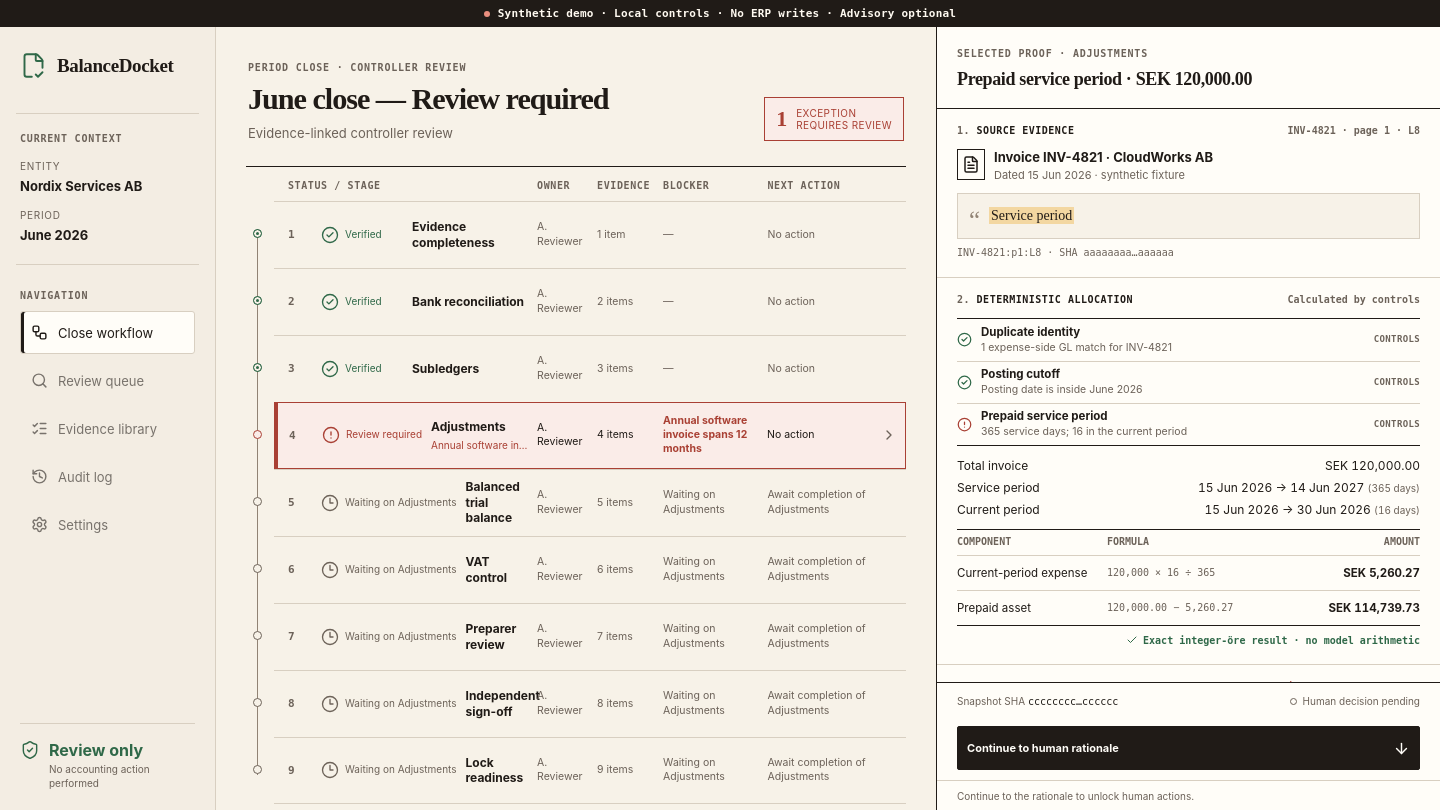
BalanceDocket reviewer › presents the recorded request_evidence outcome consistently
Click the button "Continue to human rationale" at {"x": 1043, "y": 748}, box [957,726,1420,770]
(page scrolled)
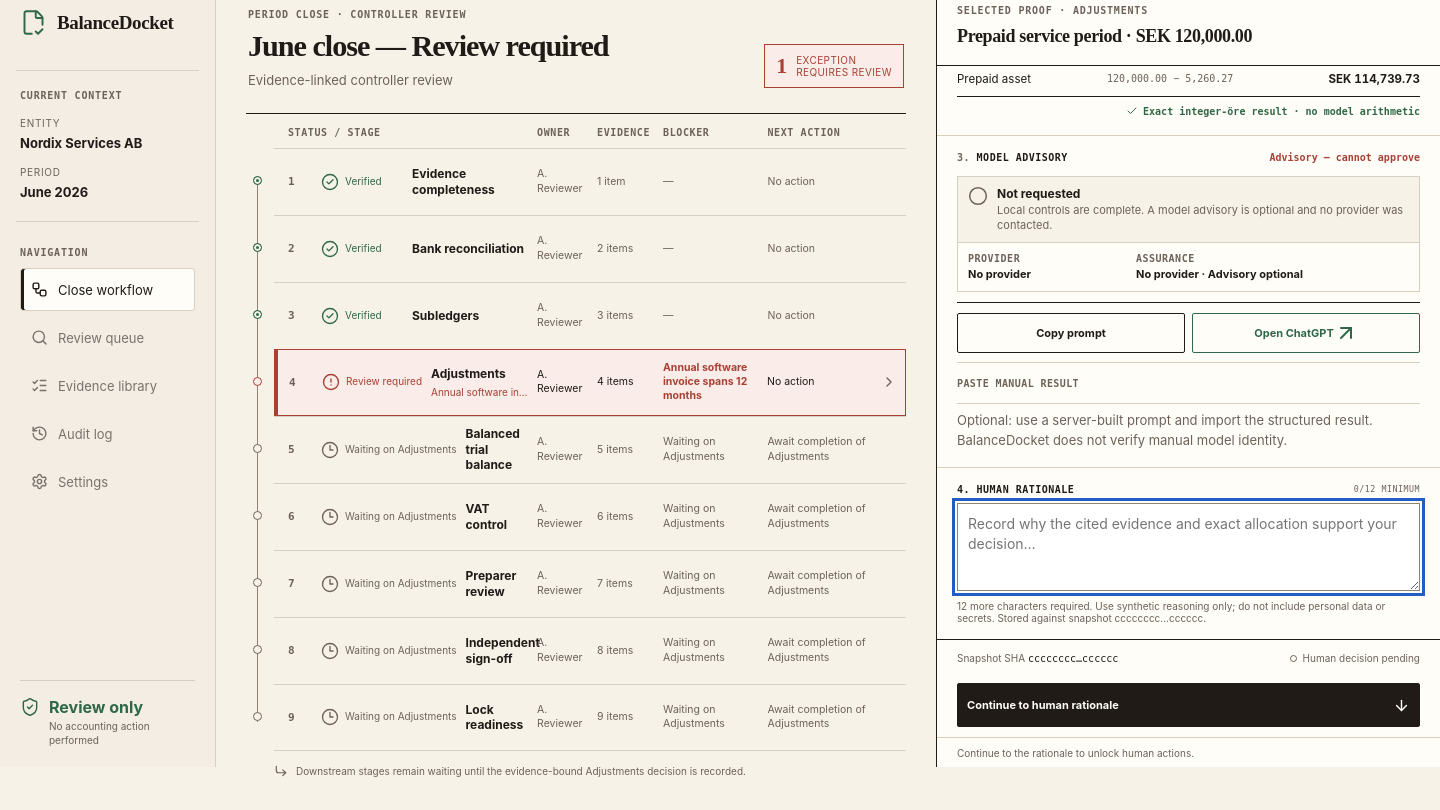
Type "The evidence-bound review supports this recorded human outcome." into the text box labelled "4. Human rationale 0/12 minimum" at {"x": 1188, "y": 547}, box [957,503,1420,591]
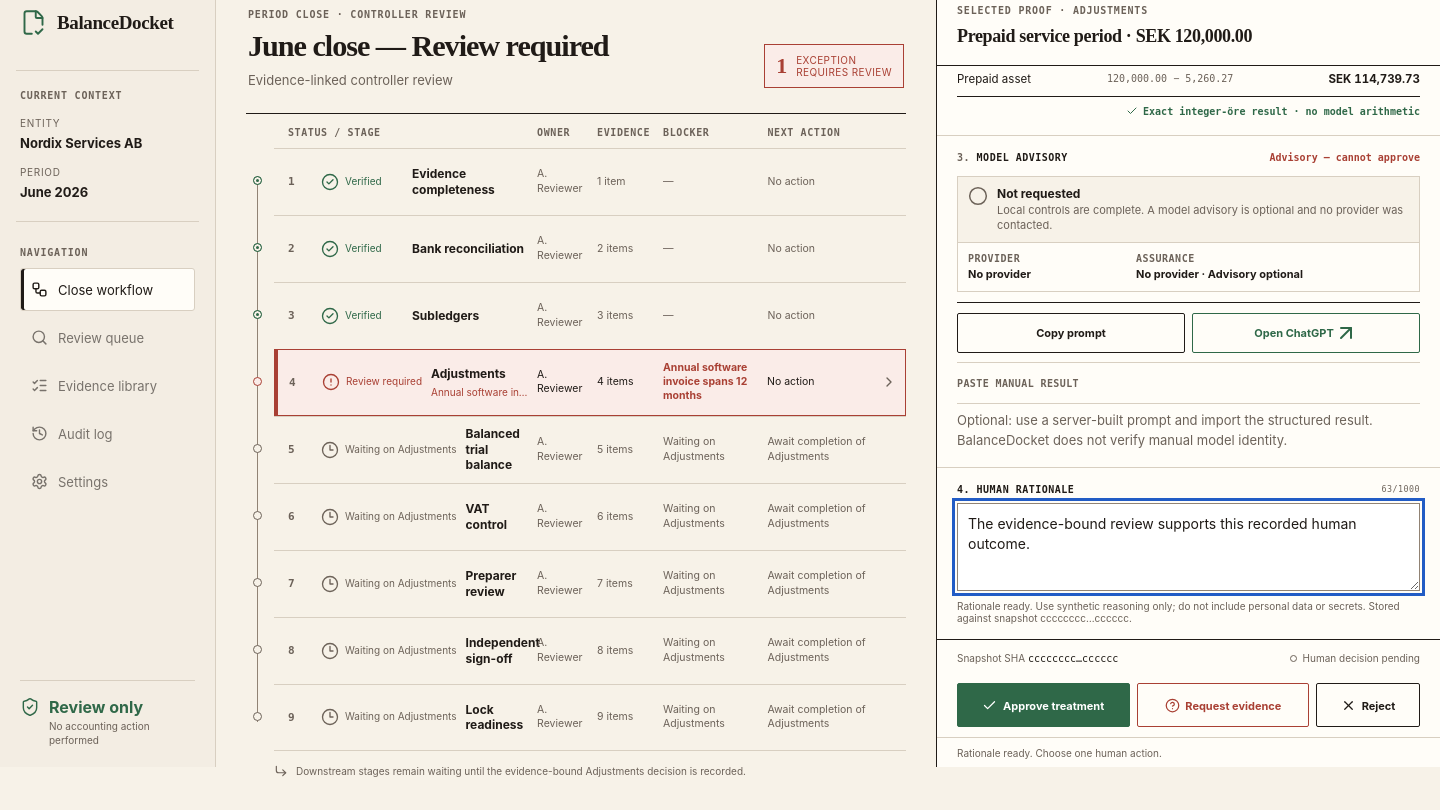
Click the button "Request evidence" at {"x": 1223, "y": 705}, box [1137,683,1309,727]
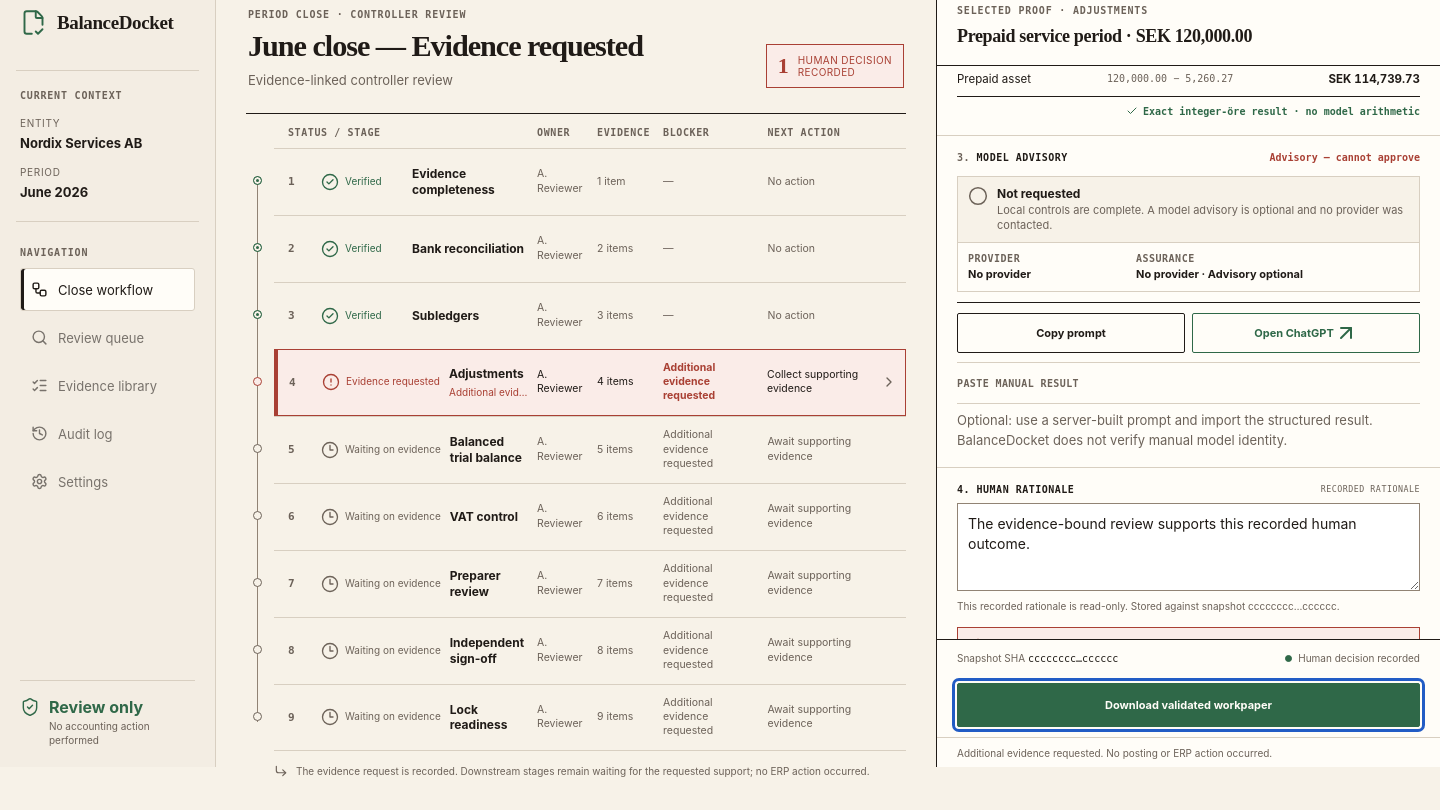
Expected: the element named "1 human decision recorded" is shown, [766,44,904,88]
Expected: the text "Waiting on evidence" next to "Balanced trial balance" is shown, [345,443,441,455]
Expected: the text "evidence request is recorded" is shown, [296,765,870,777]
